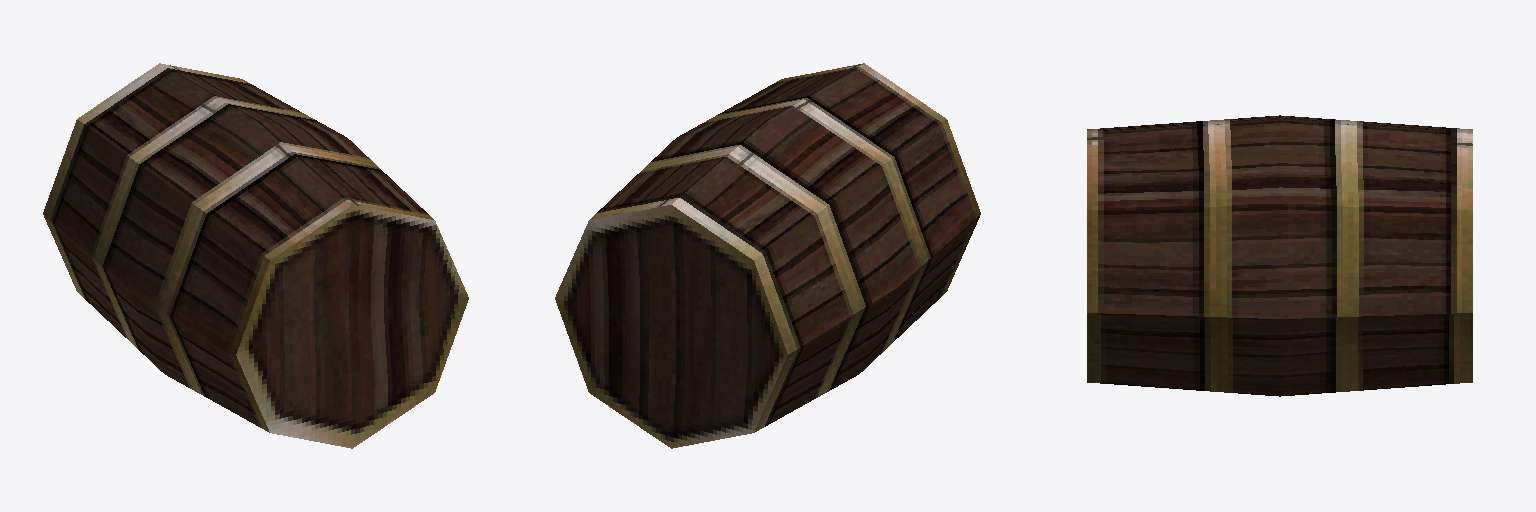
The picture shows the model from 3 angles: view 1: azimuth 30°, elevation 25°; view 2: azimuth 150°, elevation 25°; view 3: azimuth 270°, elevation 25°; orthographic projection.
Size of the model in its own units: 87.07 by 87.07 by 112.
Materials: 1 (1 with a texture image).